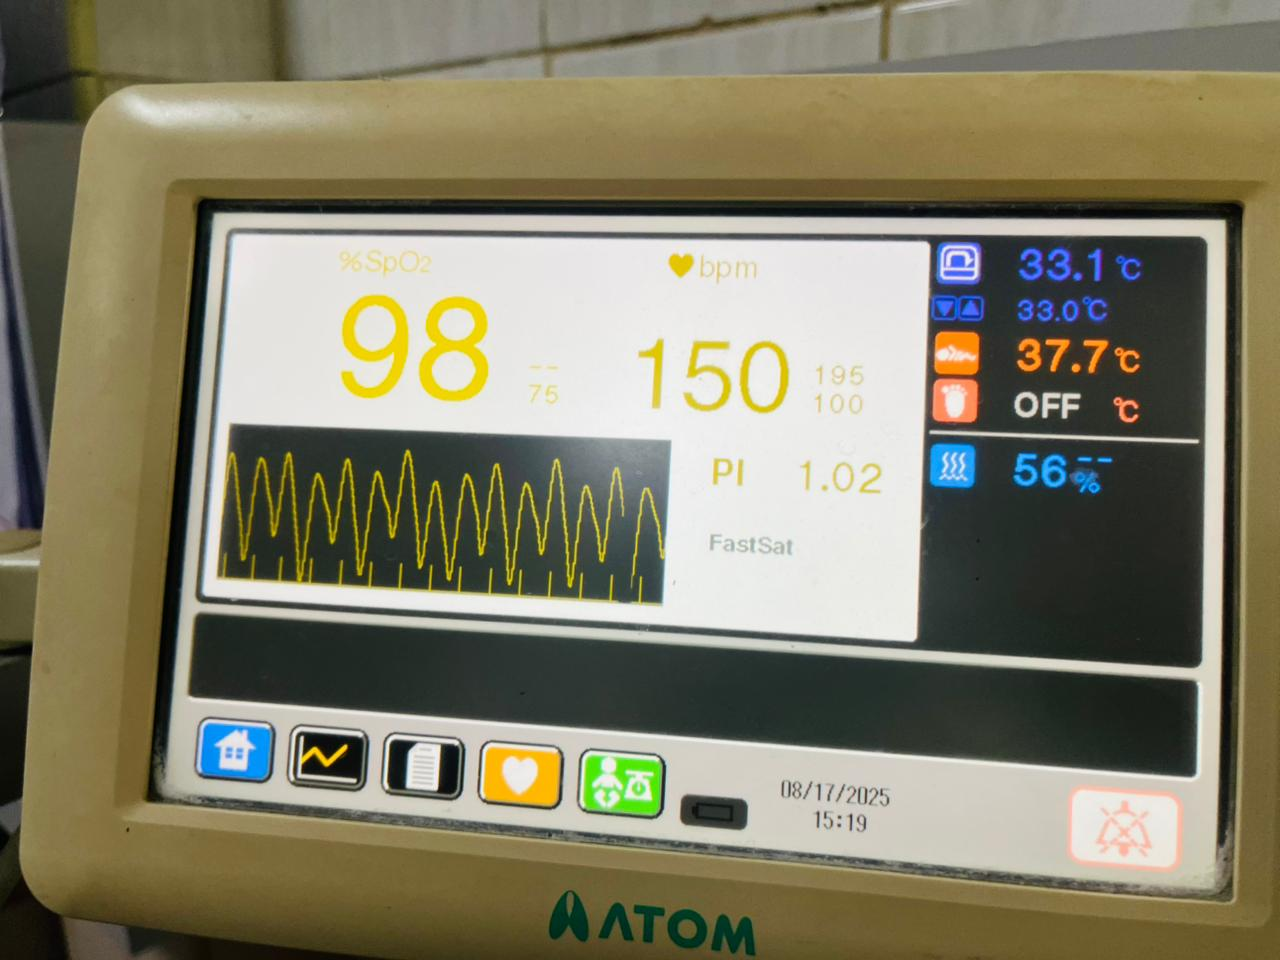heart_rate_value: (622, 324, 799, 427)
humidity_value: (1000, 441, 1075, 503)
skin_temp_value: (1004, 333, 1115, 383)
spo2_value: (325, 277, 503, 416)
